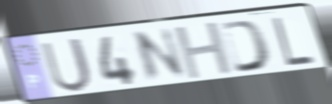4: (98, 33, 139, 87)
D: (218, 18, 272, 75)
H: (172, 19, 237, 82)
L: (270, 15, 317, 68)
N: (131, 25, 189, 86)
U: (38, 36, 94, 94)
